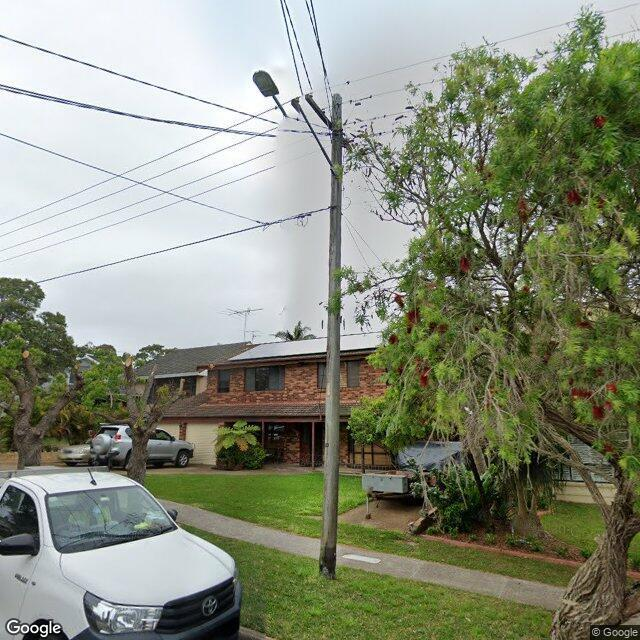crossarm: (304, 93, 352, 148)
streetlight: (251, 69, 335, 175)
timber-pole: (318, 92, 342, 580)
